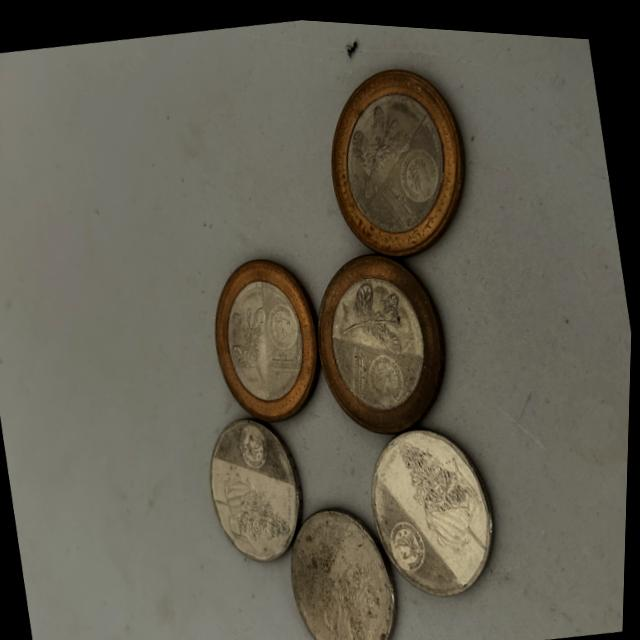10_New_Back: (390, 414, 503, 562), (210, 458, 311, 566)
20_New_Back: (332, 78, 422, 198), (321, 264, 423, 359)
